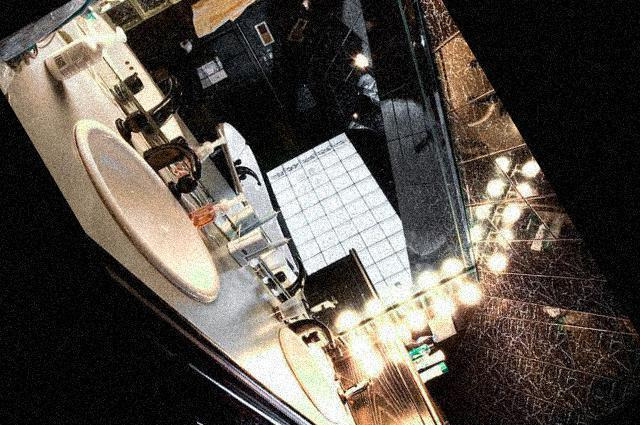Lavamanos: (61, 75, 270, 326), (259, 292, 383, 425)
